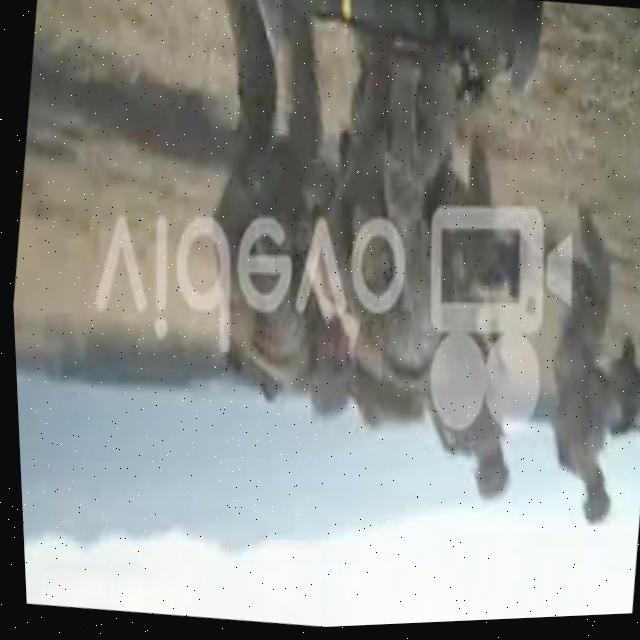rocket: (268, 0, 552, 114)
